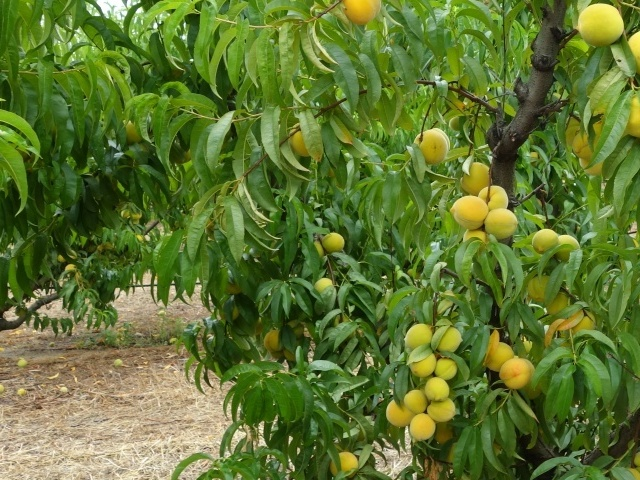peach: (575, 1, 627, 48), (409, 128, 453, 169), (449, 192, 491, 232), (498, 355, 538, 391), (481, 207, 519, 243), (339, 1, 388, 28), (400, 320, 435, 356), (461, 159, 493, 198), (572, 126, 603, 165), (475, 182, 509, 216), (574, 152, 612, 182), (287, 118, 313, 161), (429, 325, 463, 357), (566, 306, 600, 338), (406, 349, 439, 381), (484, 338, 514, 373), (327, 449, 361, 479), (523, 274, 554, 306), (531, 225, 561, 257), (384, 395, 413, 428), (424, 396, 457, 425), (458, 224, 493, 250), (406, 413, 437, 442), (429, 355, 459, 384), (422, 375, 452, 403), (320, 230, 348, 258), (555, 231, 581, 259), (400, 388, 429, 413), (259, 329, 285, 353), (309, 274, 334, 298), (282, 318, 306, 341), (309, 239, 331, 258)
